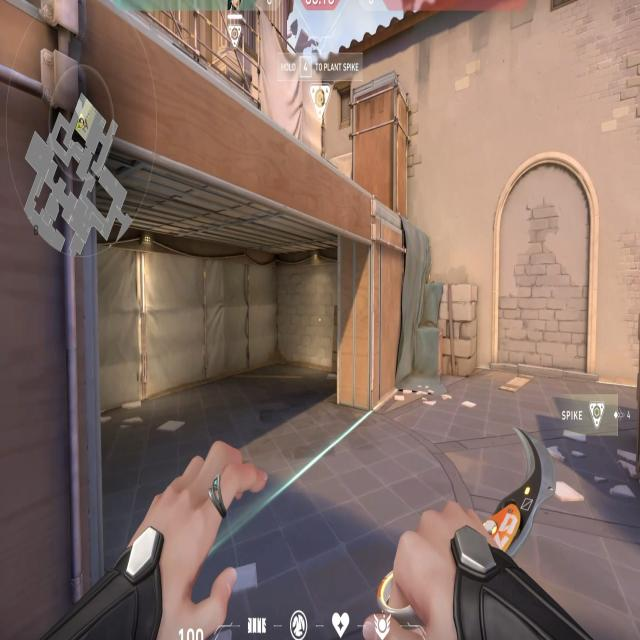A_Heaven_Box: (352, 65, 415, 215)
A_Hell: (63, 211, 387, 536)
